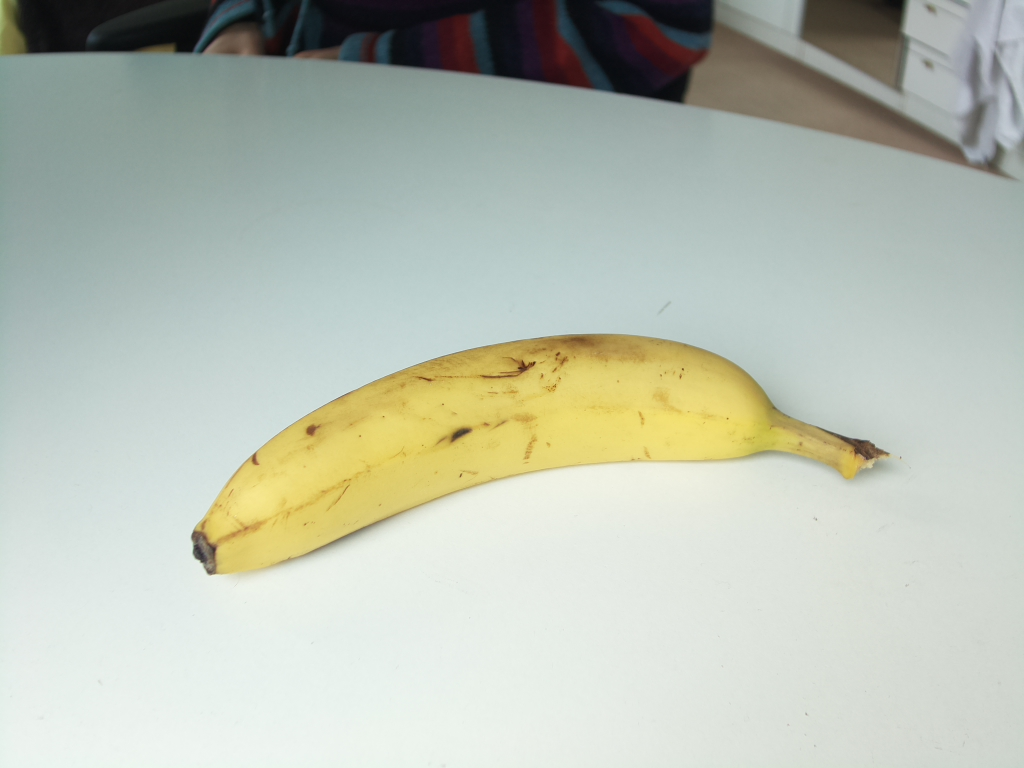banana: (191, 333, 884, 573)
